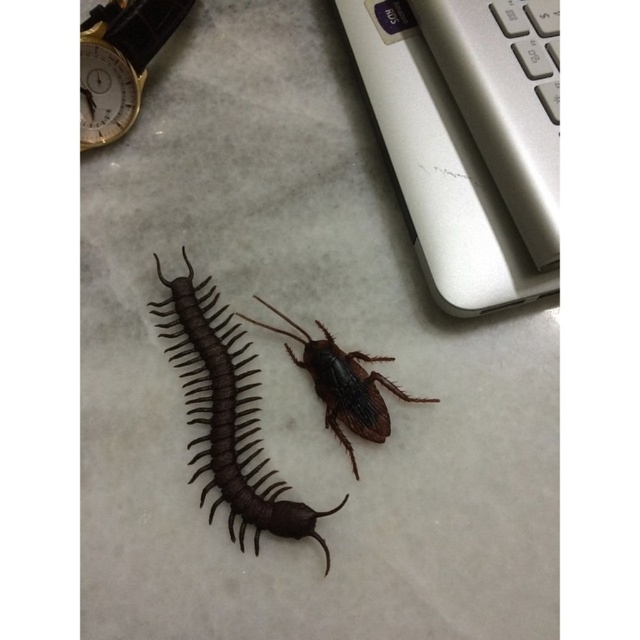Centipede: (151, 251, 359, 567)
